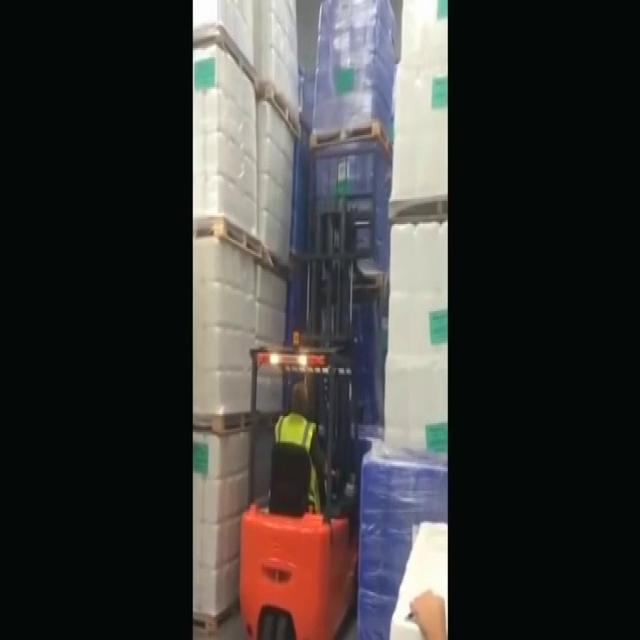Chariot elevateur: (237, 320, 360, 640)
